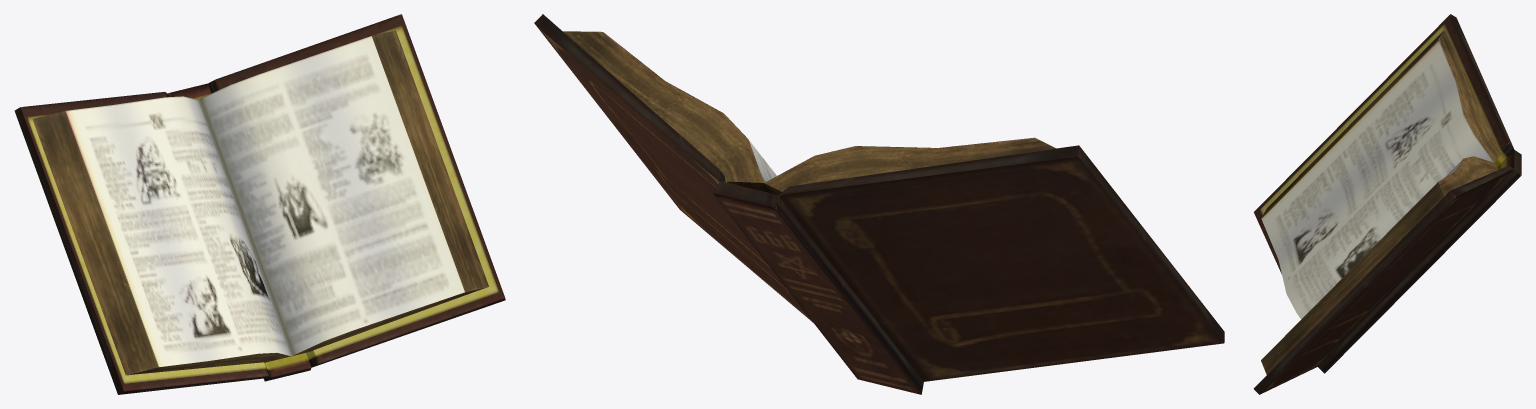
File: book.FBX
The picture shows the model from 3 angles, left to right: view 1: azimuth 30°, elevation 25°; view 2: azimuth 150°, elevation 25°; view 3: azimuth 270°, elevation 25°; orthographic projection. The views are drawn at different scales.
Visible parts, largest first — view 1: Grimoire; view 2: Grimoire; view 3: Grimoire.
Boxes of the visible parts, left/top/right/bottom form: Grimoire: left=14, top=14, right=505, bottom=394; Grimoire: left=534, top=14, right=1224, bottom=394; Grimoire: left=1253, top=14, right=1521, bottom=394.
Size of the model in its own units: 32.49 by 21.62 by 20.49.
